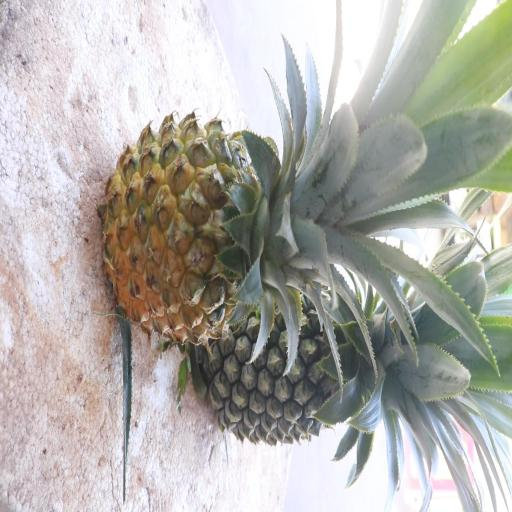Pineapple - v8 v1: (96, 107, 383, 349)
